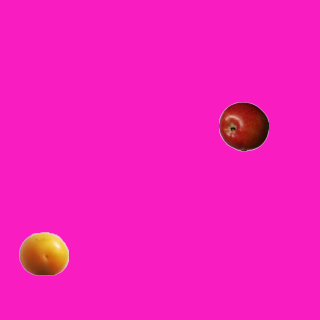Apple Braeburn: (218, 101, 268, 151)
Cherry Wax Yellow: (18, 228, 68, 278)
